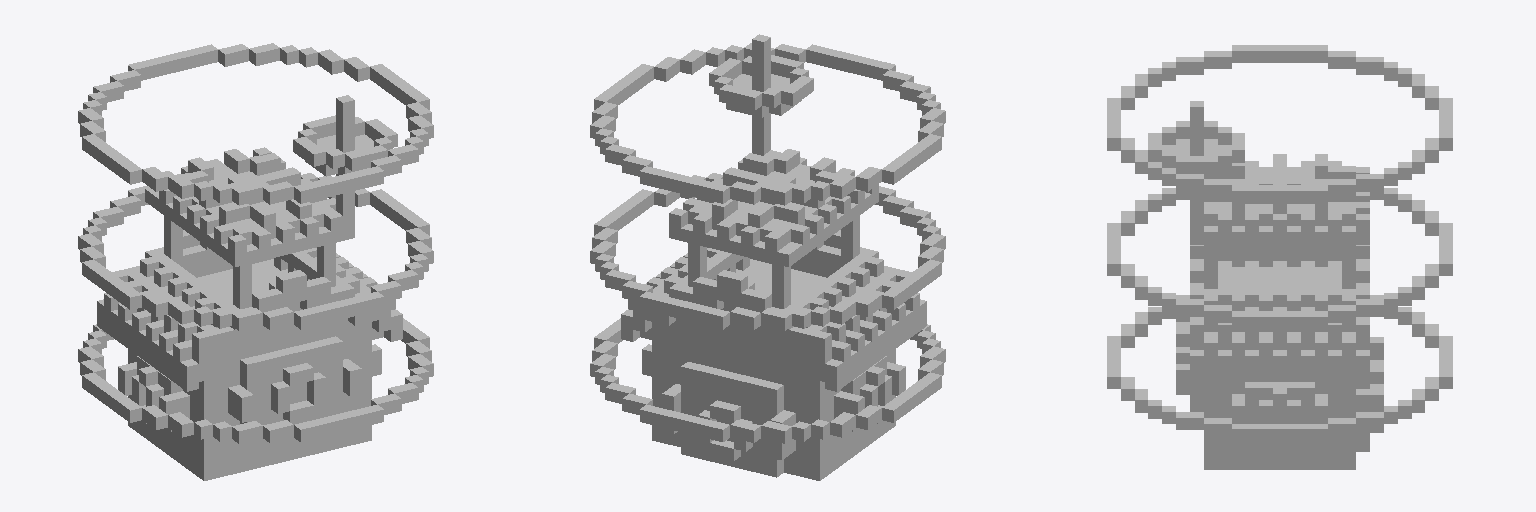
The model's file is barn3.obj.
3 views of the same model, side by side, from view 1: azimuth 30°, elevation 25°; view 2: azimuth 150°, elevation 25°; view 3: azimuth 270°, elevation 25° (orthographic).
Size of the model in its own units: 25 by 28 by 25.